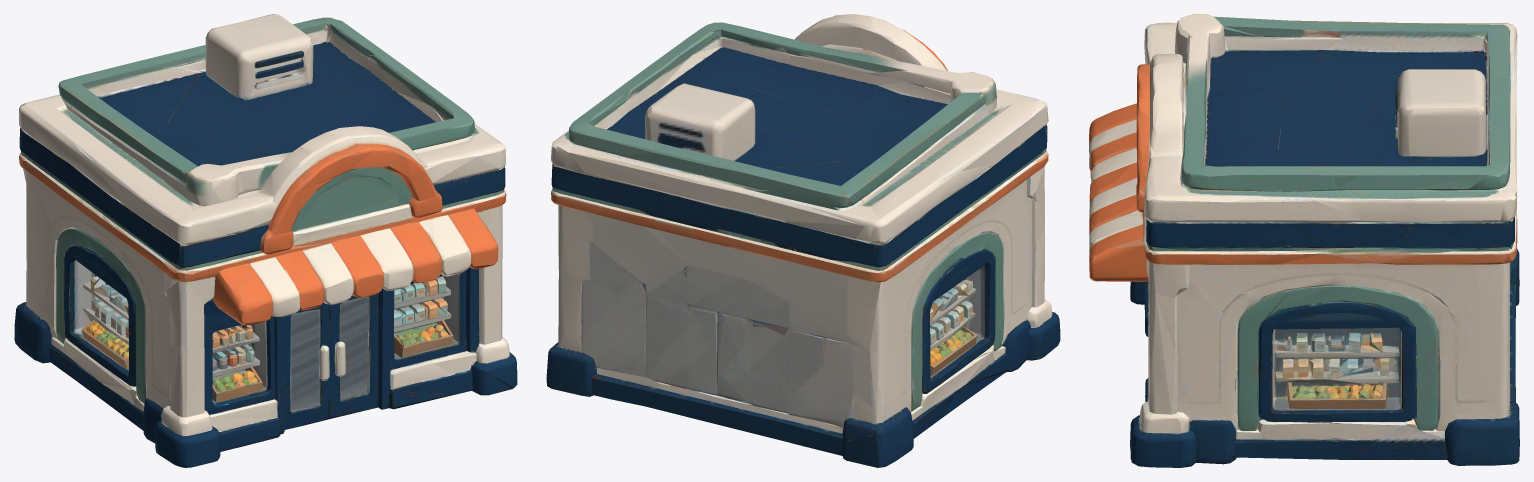
File: furnitureShowroom.glb
The picture shows the model from 3 angles, left to right: view 1: azimuth 30°, elevation 25°; view 2: azimuth 150°, elevation 25°; view 3: azimuth 270°, elevation 25°; orthographic projection. The views are drawn at different scales.
Visible parts, largest first — view 1: Mesh_0; view 2: Mesh_0; view 3: Mesh_0.
Part boxes in pixels (bbox=[...]): Mesh_0: bbox=[14, 14, 517, 467]; Mesh_0: bbox=[546, 14, 1060, 467]; Mesh_0: bbox=[1089, 14, 1519, 467].
Bounding box in the file's own units: 2.87 × 2.26 × 2.8.
Materials: 1 (1 with a texture image).
